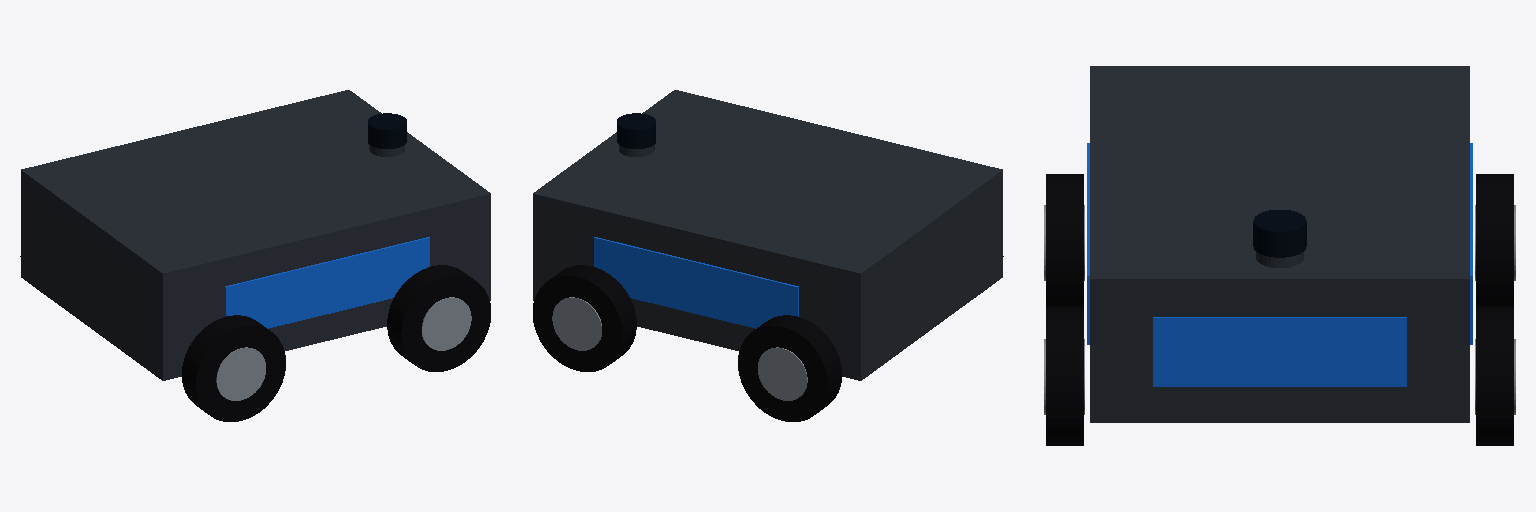
The robot description file, URDF, robot "Mobile_robot":
<?xml version='1.0' encoding='utf-8'?>
<robot name="Mobile_robot">
  <robotlens_sim base="floating">
    <actuator joint="left_front_wheel_joint" type="velocity" gain="15" effort="30" />
    <actuator joint="right_front_wheel_joint" type="velocity" gain="15" effort="30" />
    <actuator joint="left_rear_wheel_joint" type="velocity" gain="15" effort="30" />
    <actuator joint="right_rear_wheel_joint" type="velocity" gain="15" effort="30" />
  </robotlens_sim>
  <link name="base_footprint">
    <inertial>
      <origin xyz="0 0 0" rpy="0 0 0" />
      <mass value="0.001" />
      <inertia ixx="1e-06" ixy="0" ixz="0" iyy="1e-06" iyz="0" izz="1e-06" />
    </inertial>
  </link>
  <joint name="base_footprint_joint" type="fixed">
    <parent link="base_footprint" />
    <child link="base_link" />
    <origin xyz="0 0 0.225" rpy="0 0 0" />
  </joint>
  <link name="base_link">
    <inertial>
      <origin xyz="0 0 0" rpy="0 0 0" />
      <mass value="79.08732" />
      <inertia ixx="2.8214223445199997" ixy="0" ixz="0" iyy="4.633590108680001" iyz="0" izz="6.6399028852000015" />
    </inertial>
    <visual>
      <origin xyz="0 0 0" rpy="0 0 0" />
      <geometry>
        <box size="0.8 0.6 0.25" />
      </geometry>
      <material name="material_1">
        <color rgba="0.2 0.22 0.25 1" />
      </material>
    </visual>
    <visual>
      <origin xyz="0 0.3 0" rpy="0 0 0" />
      <geometry>
        <box size="0.496 0.01 0.12" />
      </geometry>
      <material name="material_2">
        <color rgba="0.12 0.45 0.85 1" />
      </material>
    </visual>
    <visual>
      <origin xyz="0 -0.3 0" rpy="0 0 0" />
      <geometry>
        <box size="0.496 0.01 0.12" />
      </geometry>
      <material name="material_3">
        <color rgba="0.12 0.45 0.85 1" />
      </material>
    </visual>
    <visual>
      <origin xyz="0.4 0 0" rpy="0 0 0" />
      <geometry>
        <box size="0.01 0.402 0.12" />
      </geometry>
      <material name="material_4">
        <color rgba="0.12 0.45 0.85 1" />
      </material>
    </visual>
    <collision>
      <origin xyz="0 0 0" rpy="0 0 0" />
      <geometry>
        <box size="0.7200000000000001 0.54 0.225" />
      </geometry>
    </collision>
    <collision>
      <origin xyz="0 0.3 0" rpy="0 0 0" />
      <geometry>
        <box size="0.4464 0.009000000000000001 0.108" />
      </geometry>
    </collision>
    <collision>
      <origin xyz="0 -0.3 0" rpy="0 0 0" />
      <geometry>
        <box size="0.4464 0.009000000000000001 0.108" />
      </geometry>
    </collision>
    <collision>
      <origin xyz="0.4 0 0" rpy="0 0 0" />
      <geometry>
        <box size="0.009000000000000001 0.3618 0.108" />
      </geometry>
    </collision>
  </link>
  <link name="left_front_wheel">
    <inertial>
      <origin xyz="0 0 0" rpy="0 0 0" />
      <mass value="1.9668560644029456" />
      <inertia ixx="0.0055420506463979185" ixy="0" ixz="0" iyy="0.009855631299195266" iyz="0" izz="0.0055420506463979185" />
    </inertial>
    <visual>
      <origin xyz="0 0 0" rpy="-1.5707963267948963 0 0" />
      <geometry>
        <cylinder radius="0.11" length="0.06" />
      </geometry>
      <material name="material_5">
        <color rgba="0.07 0.07 0.08 1" />
      </material>
    </visual>
    <visual>
      <origin xyz="0 0 0" rpy="-1.5707963267948963 0 0" />
      <geometry>
        <cylinder radius="0.060500000000000005" length="0.0648" />
      </geometry>
      <material name="material_6">
        <color rgba="0.55 0.58 0.62 1" />
      </material>
    </visual>
    <collision>
      <origin xyz="0 0 0" rpy="-1.5707963267948963 0 0" />
      <geometry>
        <cylinder radius="0.11" length="0.06" />
      </geometry>
    </collision>
    <collision>
      <origin xyz="0 0 0" rpy="-1.5707963267948963 0 0" />
      <geometry>
        <cylinder radius="0.054450000000000005" length="0.05508" />
      </geometry>
    </collision>
  </link>
  <link name="right_front_wheel">
    <inertial>
      <origin xyz="0 0 0" rpy="0 0 0" />
      <mass value="1.9668560644029456" />
      <inertia ixx="0.0055420506463979185" ixy="0" ixz="0" iyy="0.009855631299195266" iyz="0" izz="0.0055420506463979185" />
    </inertial>
    <visual>
      <origin xyz="0 0 0" rpy="-1.5707963267948963 0 0" />
      <geometry>
        <cylinder radius="0.11" length="0.06" />
      </geometry>
      <material name="material_7">
        <color rgba="0.07 0.07 0.08 1" />
      </material>
    </visual>
    <visual>
      <origin xyz="0 0 0" rpy="-1.5707963267948963 0 0" />
      <geometry>
        <cylinder radius="0.060500000000000005" length="0.0648" />
      </geometry>
      <material name="material_8">
        <color rgba="0.55 0.58 0.62 1" />
      </material>
    </visual>
    <collision>
      <origin xyz="0 0 0" rpy="-1.5707963267948963 0 0" />
      <geometry>
        <cylinder radius="0.11" length="0.06" />
      </geometry>
    </collision>
    <collision>
      <origin xyz="0 0 0" rpy="-1.5707963267948963 0 0" />
      <geometry>
        <cylinder radius="0.054450000000000005" length="0.05508" />
      </geometry>
    </collision>
  </link>
  <link name="left_rear_wheel">
    <inertial>
      <origin xyz="0 0 0" rpy="0 0 0" />
      <mass value="1.9668560644029456" />
      <inertia ixx="0.0055420506463979185" ixy="0" ixz="0" iyy="0.009855631299195266" iyz="0" izz="0.0055420506463979185" />
    </inertial>
    <visual>
      <origin xyz="0 0 0" rpy="-1.5707963267948963 0 0" />
      <geometry>
        <cylinder radius="0.11" length="0.06" />
      </geometry>
      <material name="material_9">
        <color rgba="0.07 0.07 0.08 1" />
      </material>
    </visual>
    <visual>
      <origin xyz="0 0 0" rpy="-1.5707963267948963 0 0" />
      <geometry>
        <cylinder radius="0.060500000000000005" length="0.0648" />
      </geometry>
      <material name="material_10">
        <color rgba="0.55 0.58 0.62 1" />
      </material>
    </visual>
    <collision>
      <origin xyz="0 0 0" rpy="-1.5707963267948963 0 0" />
      <geometry>
        <cylinder radius="0.11" length="0.06" />
      </geometry>
    </collision>
    <collision>
      <origin xyz="0 0 0" rpy="-1.5707963267948963 0 0" />
      <geometry>
        <cylinder radius="0.054450000000000005" length="0.05508" />
      </geometry>
    </collision>
  </link>
  <link name="right_rear_wheel">
    <inertial>
      <origin xyz="0 0 0" rpy="0 0 0" />
      <mass value="1.9668560644029456" />
      <inertia ixx="0.0055420506463979185" ixy="0" ixz="0" iyy="0.009855631299195266" iyz="0" izz="0.0055420506463979185" />
    </inertial>
    <visual>
      <origin xyz="0 0 0" rpy="-1.5707963267948963 0 0" />
      <geometry>
        <cylinder radius="0.11" length="0.06" />
      </geometry>
      <material name="material_11">
        <color rgba="0.07 0.07 0.08 1" />
      </material>
    </visual>
    <visual>
      <origin xyz="0 0 0" rpy="-1.5707963267948963 0 0" />
      <geometry>
        <cylinder radius="0.060500000000000005" length="0.0648" />
      </geometry>
      <material name="material_12">
        <color rgba="0.55 0.58 0.62 1" />
      </material>
    </visual>
    <collision>
      <origin xyz="0 0 0" rpy="-1.5707963267948963 0 0" />
      <geometry>
        <cylinder radius="0.11" length="0.06" />
      </geometry>
    </collision>
    <collision>
      <origin xyz="0 0 0" rpy="-1.5707963267948963 0 0" />
      <geometry>
        <cylinder radius="0.054450000000000005" length="0.05508" />
      </geometry>
    </collision>
  </link>
  <link name="lidar_link">
    <inertial>
      <origin xyz="0 0 0" rpy="0 0 0" />
      <mass value="0.22107073344046016" />
      <inertia ixx="0.00042077856562707633" ixy="0" ixz="0" iyy="0.00042077856562707633" iyz="0" izz="0.00018554855052757584" />
    </inertial>
    <visual>
      <origin xyz="0 0 0.01" rpy="0 0 0" />
      <geometry>
        <cylinder radius="0.038" length="0.02" />
      </geometry>
      <material name="material_13">
        <color rgba="0.2 0.22 0.25 1" />
      </material>
    </visual>
    <visual>
      <origin xyz="0 0 0.0425" rpy="0 0 0" />
      <geometry>
        <cylinder radius="0.042" length="0.045" />
      </geometry>
      <material name="material_14">
        <color rgba="0.05 0.08 0.12 1" />
      </material>
    </visual>
    <collision>
      <origin xyz="0 0 0.01" rpy="0 0 0" />
      <geometry>
        <cylinder radius="0.0342" length="0.017" />
      </geometry>
    </collision>
    <collision>
      <origin xyz="0 0 0.0425" rpy="0 0 0" />
      <geometry>
        <cylinder radius="0.0378" length="0.03825" />
      </geometry>
    </collision>
  </link>
  <joint name="left_front_wheel_joint" type="continuous">
    <parent link="base_link" />
    <child link="left_front_wheel" />
    <origin xyz="0.25000000000000006 0.33999999999999997 -0.115" rpy="0 0 0" />
    <axis xyz="0 1 0" />
    <limit effort="30" velocity="3" />
    <dynamics damping="1.5" />
  </joint>
  <joint name="right_front_wheel_joint" type="continuous">
    <parent link="base_link" />
    <child link="right_front_wheel" />
    <origin xyz="0.25000000000000006 -0.33999999999999997 -0.115" rpy="0 0 0" />
    <axis xyz="0 1 0" />
    <limit effort="30" velocity="3" />
    <dynamics damping="1.5" />
  </joint>
  <joint name="left_rear_wheel_joint" type="continuous">
    <parent link="base_link" />
    <child link="left_rear_wheel" />
    <origin xyz="-0.25000000000000006 0.33999999999999997 -0.115" rpy="0 0 0" />
    <axis xyz="0 1 0" />
    <limit effort="30" velocity="3" />
    <dynamics damping="1.5" />
  </joint>
  <joint name="right_rear_wheel_joint" type="continuous">
    <parent link="base_link" />
    <child link="right_rear_wheel" />
    <origin xyz="-0.25000000000000006 -0.33999999999999997 -0.115" rpy="0 0 0" />
    <axis xyz="0 1 0" />
    <limit effort="30" velocity="3" />
    <dynamics damping="1.5" />
  </joint>
  <joint name="lidar_link_joint" type="fixed">
    <parent link="base_link" />
    <child link="lidar_link" />
    <origin xyz="0.32 0 0.125" rpy="0 0 0" />
  </joint>
</robot>

--- What the picture shows (computed from the rendered views, not written in the file) ---
The picture shows the robot from 3 angles, left to right: view 1: azimuth 30°, elevation 25°; view 2: azimuth 150°, elevation 25°; view 3: azimuth 270°, elevation 25°; orthographic projection.
Model Mobile_robot with 7 links and 6 joints (4 continuous, 2 fixed), rooted at base_footprint, posed all joints at 0.
Visible links, largest first — view 1: base_link, right_front_wheel, right_rear_wheel, lidar_link; view 2: base_link, left_front_wheel, left_rear_wheel, lidar_link; view 3: base_link, left_front_wheel, right_front_wheel, left_rear_wheel, right_rear_wheel, lidar_link.
Boxes of the visible links, x1=… form: base_link: x1=21, y1=90, x2=490, y2=380; right_front_wheel: x1=387, y1=265, x2=490, y2=371; right_rear_wheel: x1=182, y1=315, x2=285, y2=421; lidar_link: x1=368, y1=113, x2=406, y2=156; base_link: x1=533, y1=90, x2=1002, y2=380; left_front_wheel: x1=533, y1=265, x2=636, y2=371; left_rear_wheel: x1=738, y1=315, x2=841, y2=421; lidar_link: x1=617, y1=113, x2=655, y2=156; base_link: x1=1087, y1=66, x2=1472, y2=422; left_front_wheel: x1=1475, y1=307, x2=1515, y2=445; right_front_wheel: x1=1044, y1=307, x2=1084, y2=445; left_rear_wheel: x1=1475, y1=174, x2=1515, y2=306; right_rear_wheel: x1=1044, y1=174, x2=1084, y2=306; lidar_link: x1=1253, y1=210, x2=1306, y2=267.
Size in the robot's own frame: 0.805 by 0.7448 by 0.415 metres.
Geometry: primitives only (box / cylinder / sphere), no mesh files.
